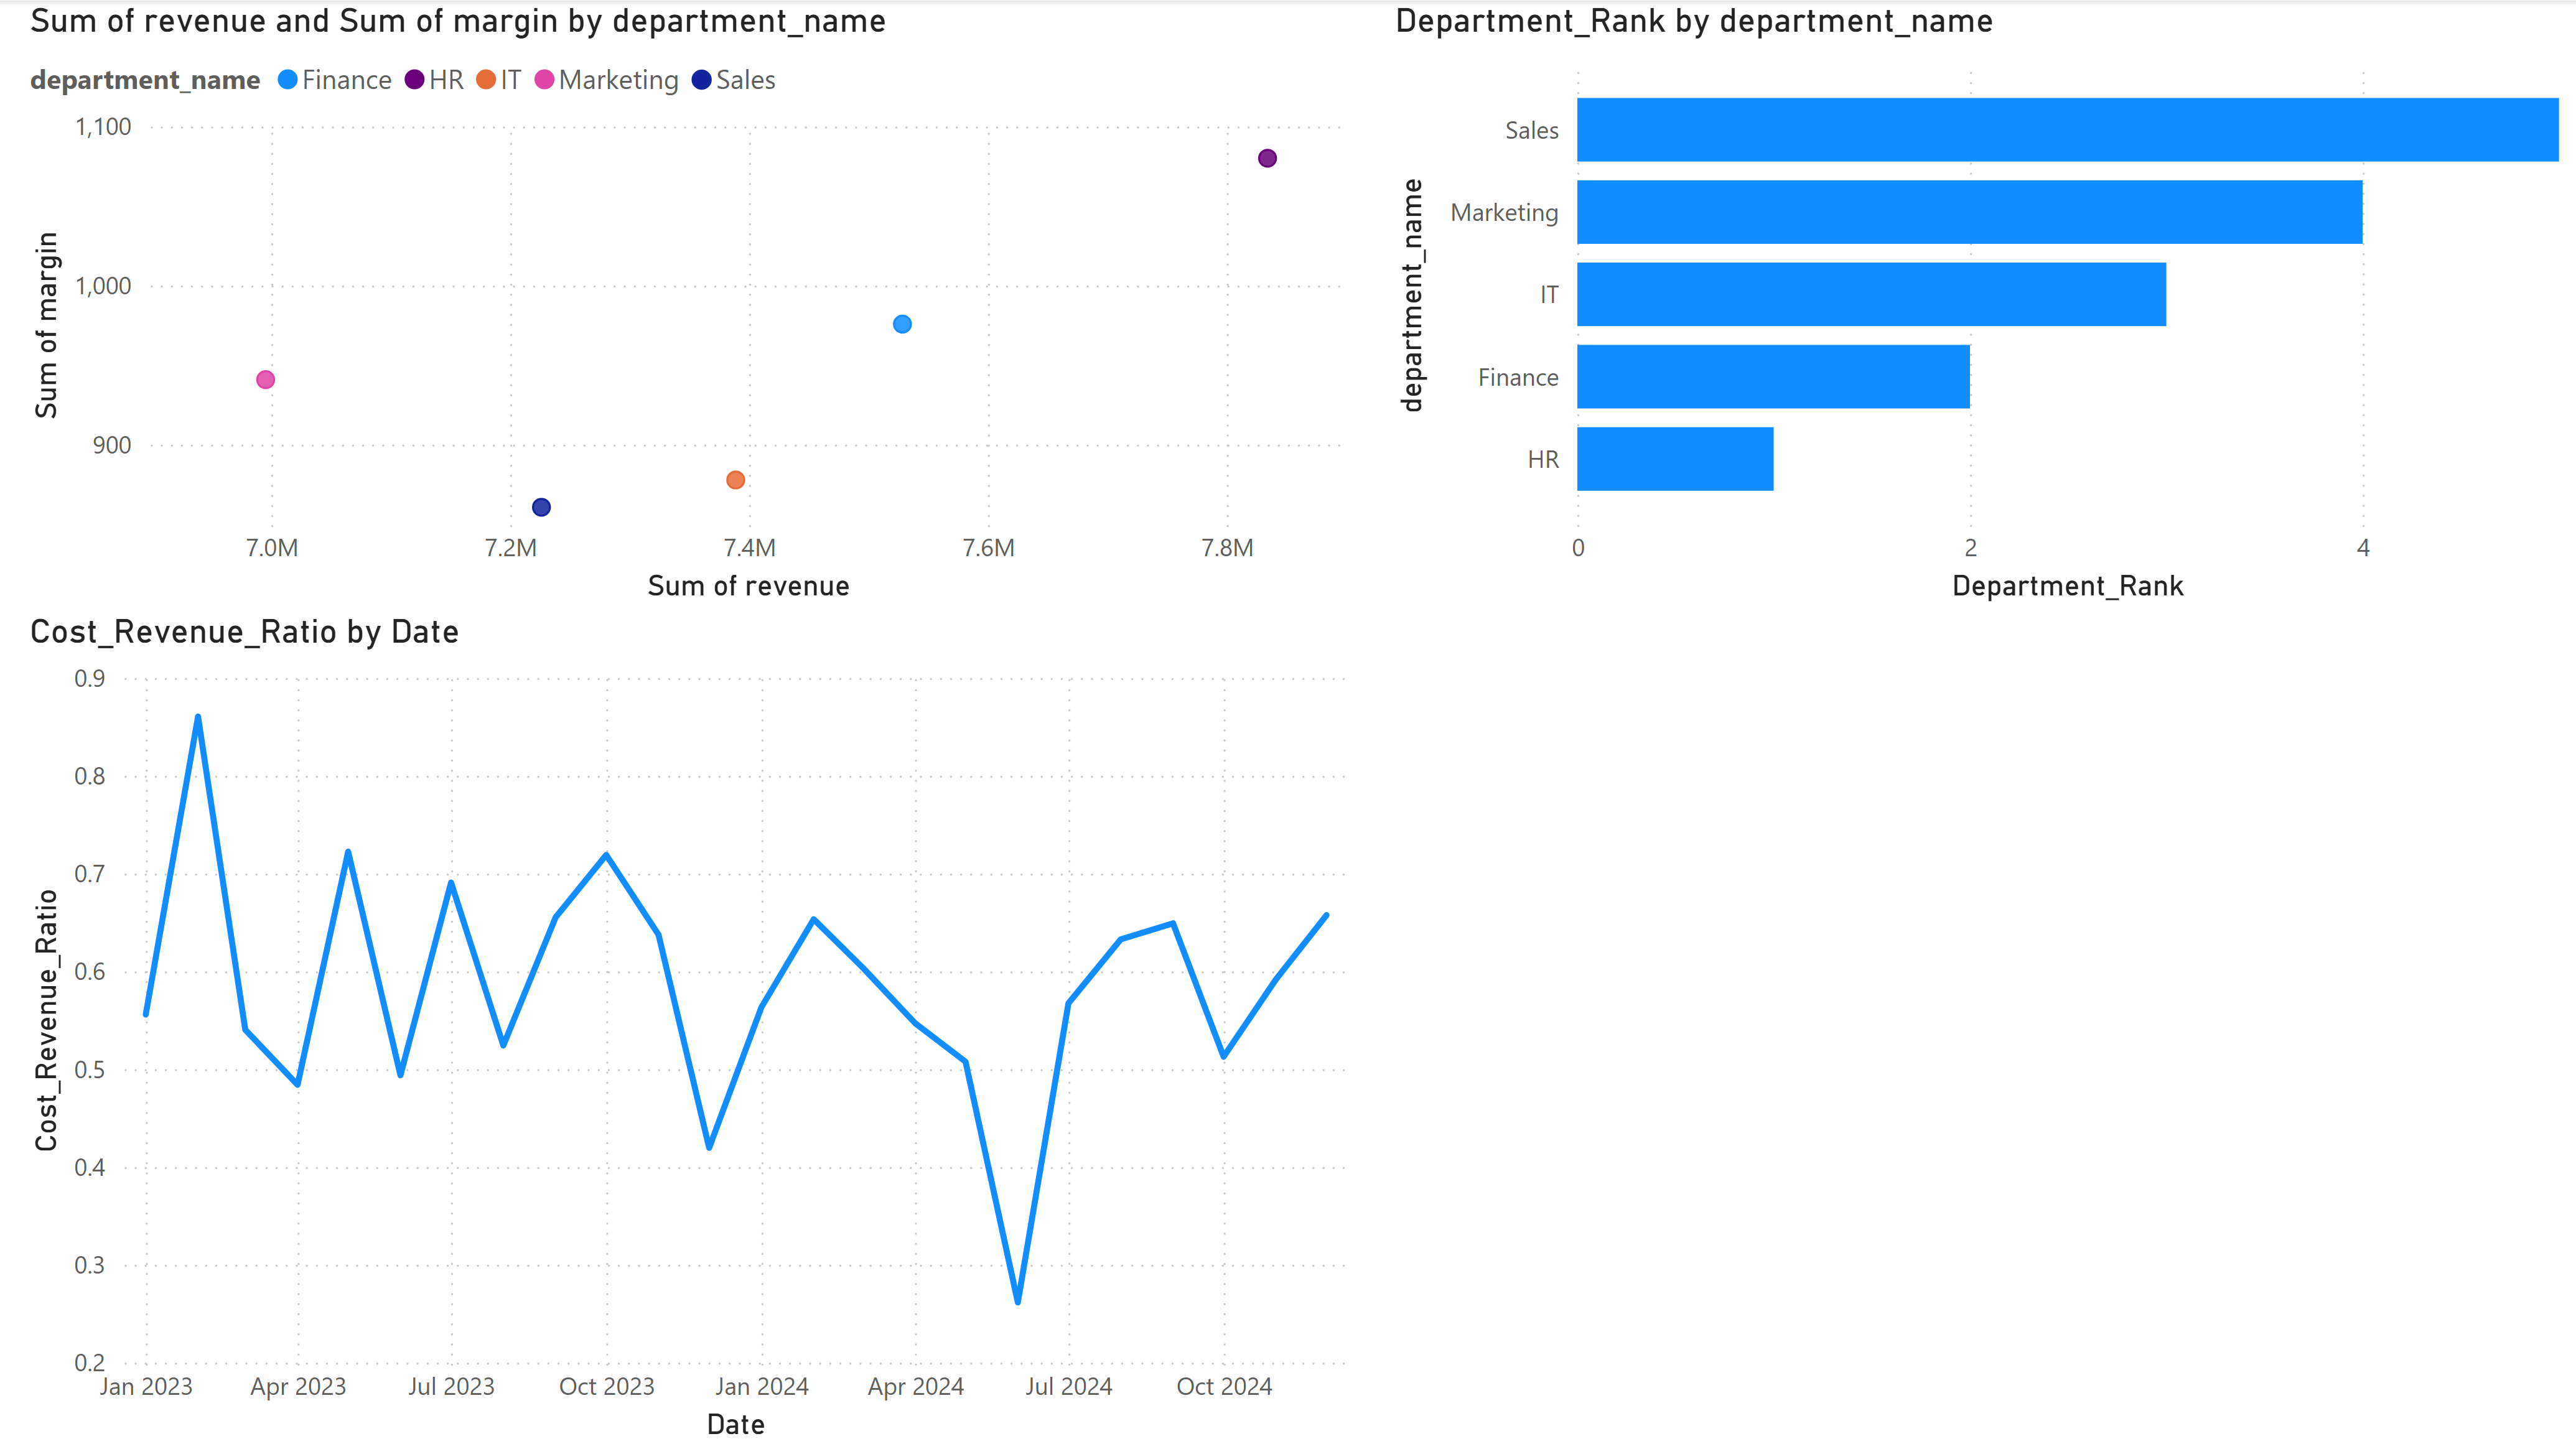

This screenshot's page, from the dashboard's own definition file:
{"tool":"powerbi","page":{"name":"Efficiency & Benchmarking","canvas":[1280,720],"ordinal":2},"visuals":[{"type":"scatterChart","fields":{"X":["Sum(financials.revenue)"],"Y":["Sum(financials.margin)"],"Series":["departments.department_name"]},"box":[9.9,0,678,303.5],"z":0},{"type":"lineChart","fields":{"Y":["financials.Cost_Revenue_Ratio"],"Category":["Date.Date"]},"box":[9.9,303.5,678,416.5],"z":1},{"type":"barChart","fields":{"Category":["departments.department_name"],"Y":["financials.Department_Rank"]},"box":[687.9,0,592.1,303.5],"z":2}]}

Visuals, with their boxes in screenshot pixels (x1, y1, x2, y2), scaled from the page's 1280x720 canvas onto the 2576x1449 screenshot:
scatterChart - Sum(financials.revenue) x Sum(financials.margin): 20,0,1384,611
lineChart - financials.Cost_Revenue_Ratio x Date.Date: 20,611,1384,1448
barChart - departments.department_name x financials.Department_Rank: 1384,0,2575,611
